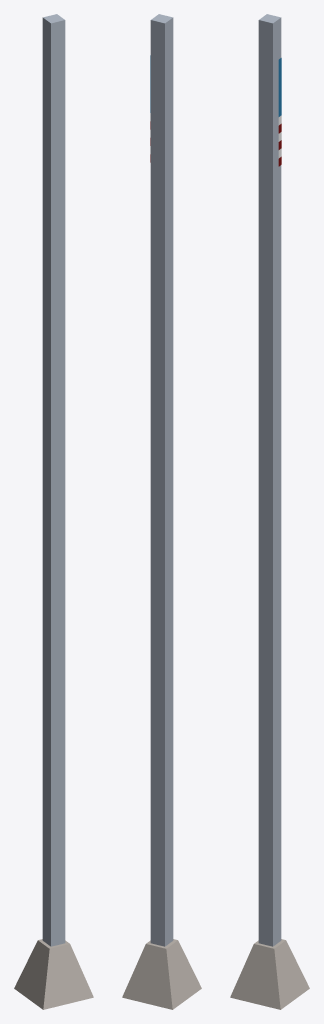
The model's file is FlagPole.fbx.
The picture shows the model from 3 angles, left to right: view 1: azimuth 30°, elevation 25°; view 2: azimuth 150°, elevation 25°; view 3: azimuth 330°, elevation 25°; orthographic projection.
Parts seen in each view (by area): view 1: FlagPole; view 2: FlagPole; view 3: FlagPole.
Part boxes in pixels (box(x1,y1,x2,y2)): FlagPole: box(14, 14, 93, 1009); FlagPole: box(122, 14, 201, 1009); FlagPole: box(230, 14, 309, 1009).
Size of the model in its own units: 0.6711 by 12.32 by 0.6711.
